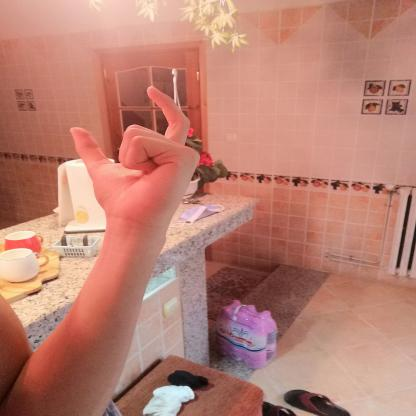NOON: (56, 74, 218, 242)
